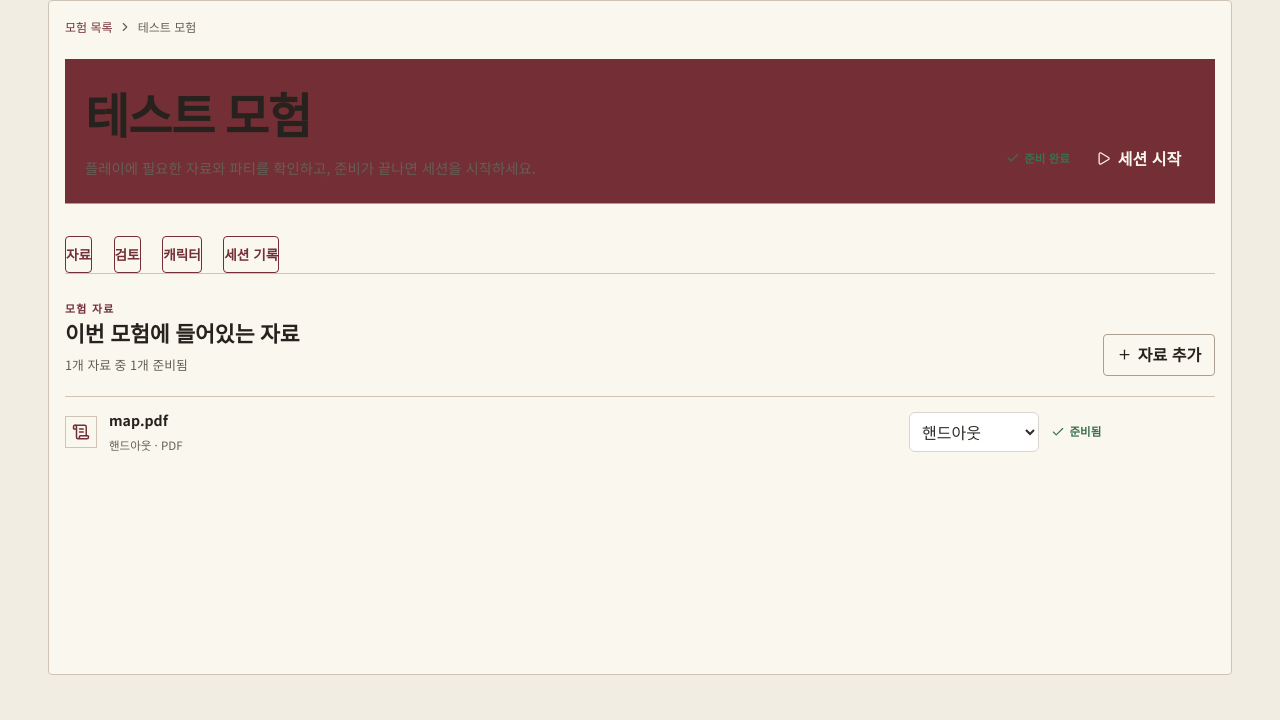
it: AdventureWorkspace 세션 연결 › 자료 역할을 변경하고 모험 자료 묶음에 저장한다
Select "지도" in the dropdown named "map.pdf 역할": (974, 432) top-left (909, 412), bottom-right (1039, 452)
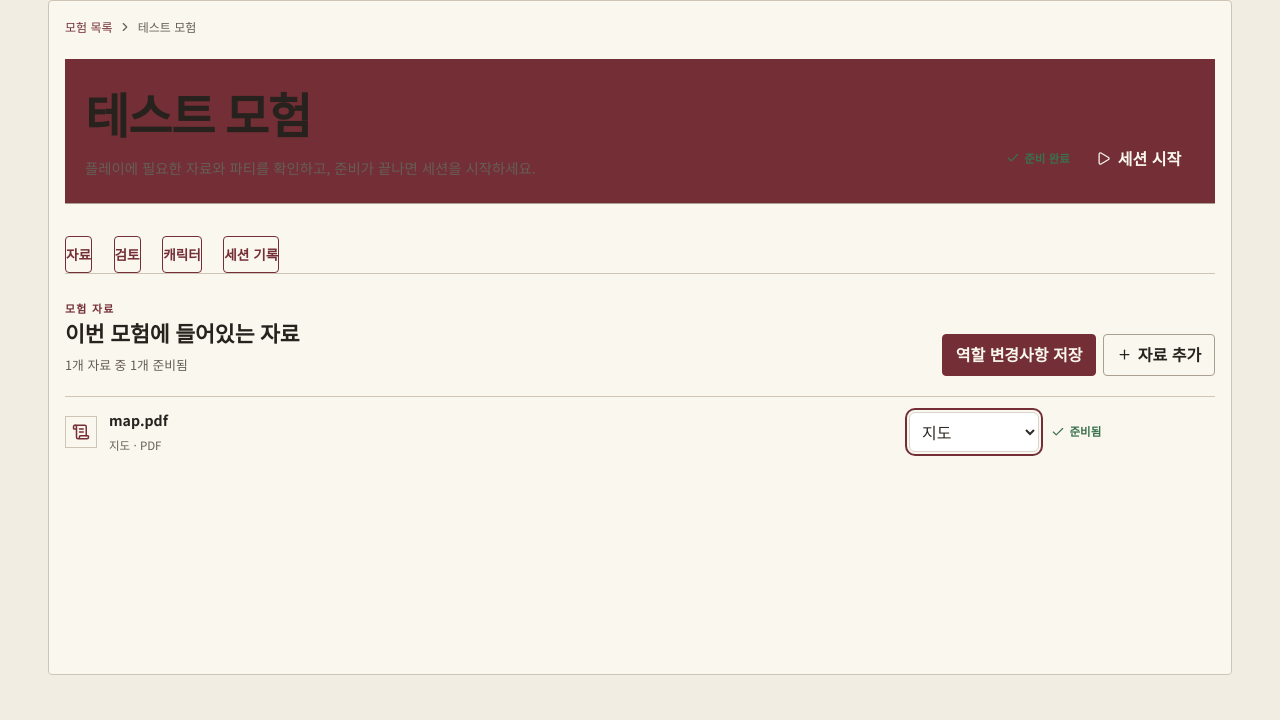
Click the button "역할 변경사항 저장": (1019, 354) top-left (942, 334), bottom-right (1096, 376)
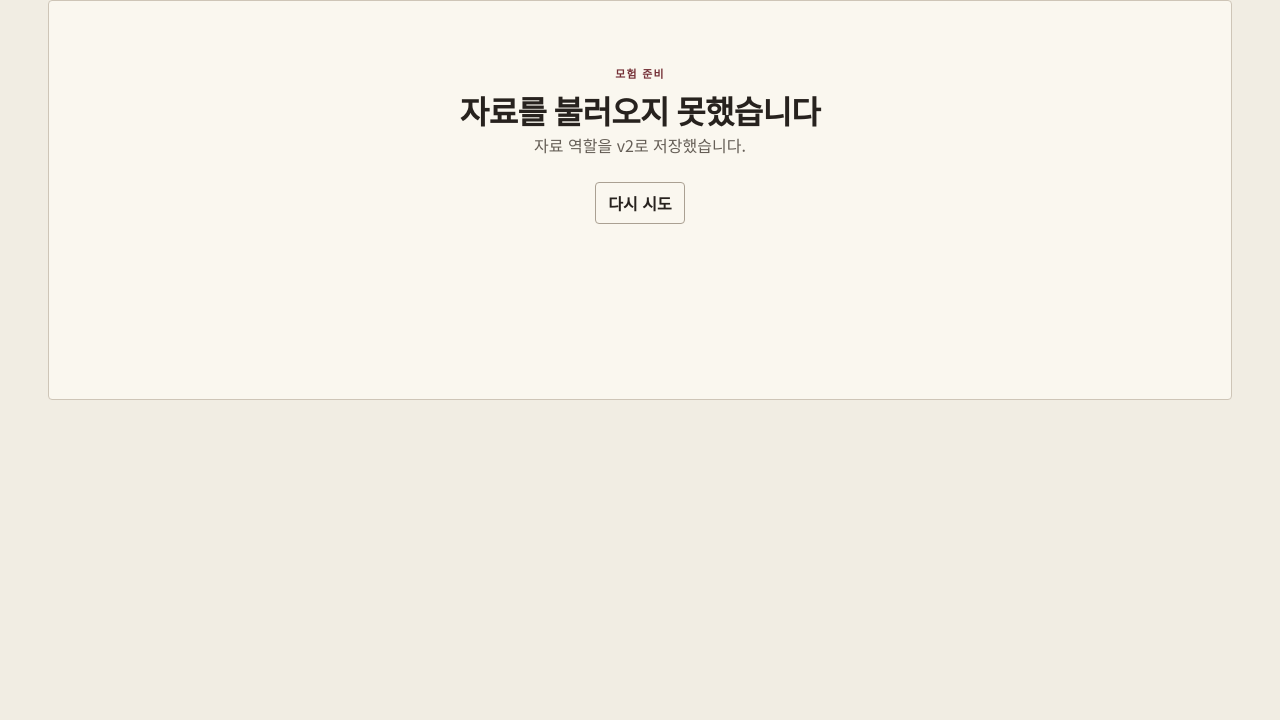
Check: the text "자료 역할을 v2로 저장했습니다." is shown, box top-left (534, 133), bottom-right (746, 157)
